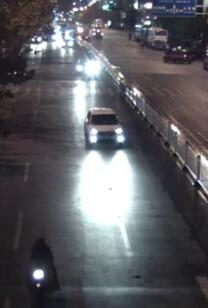bus: (146, 23, 169, 46)
car: (82, 105, 127, 152), (73, 51, 102, 81), (160, 45, 195, 66)
